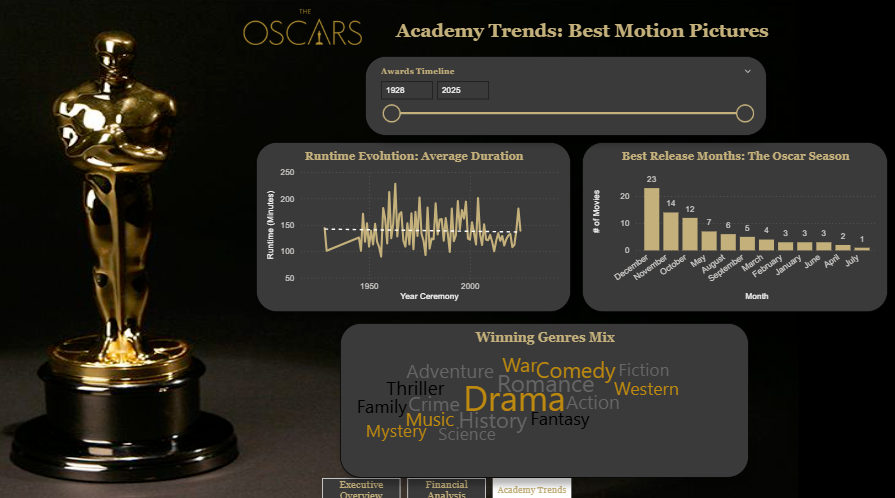

Layout of this report page (visuals, bound fields, positions):
{"tool":"powerbi","page":{"name":"Academy Trends","canvas":[1280,720],"ordinal":2},"visuals":[{"type":"image","box":[344.4,0,178.9,82.2],"z":1000},{"type":"pageNavigator","box":[461.1,685.6,356.7,34.4],"z":2000},{"type":"WordCloud1447959067750","title":"Winning Genres Mix","fields":{"Category":["public vw_oscarportfolio.genres"],"Values":["CountNonNull(public vw_oscarportfolio.tmdb_id)"]},"box":[487.1,464.3,584.3,221.4],"z":3000},{"type":"lineChart","title":"Runtime Evolution: Average Duration","fields":{"Category":["public vw_oscarportfolio.year_ceremony"],"Y":["Avg(public vw_oscarportfolio.runtime)"]},"box":[367.1,205.7,450,242.9],"z":4000},{"type":"clusteredColumnChart","title":"Best Release Months: The Oscar Season","fields":{"Category":["public vw_oscarportfolio.release_month_name"],"Y":["CountNonNull(public vw_oscarportfolio.tmdb_id)"]},"box":[832.9,205.7,437.1,242.9],"z":5000},{"type":"slicer","fields":{"Values":["public vw_oscarportfolio.year_ceremony"]},"box":[523.3,82.2,574.4,114.4],"z":6000},{"type":"textbox","box":[542.2,26.7,581.1,55.6],"z":7000}]}

Visuals, with their boxes in screenshot pixels (x1, y1, x2, y2), scaled from the page's 1280x720 canvas onto the 895x498 screenshot:
image: <bbox>241, 0, 366, 57</bbox>
pageNavigator: <bbox>322, 474, 572, 497</bbox>
"Winning Genres Mix" WordCloud1447959067750: <bbox>341, 321, 749, 474</bbox>
"Runtime Evolution: Average Duration" lineChart: <bbox>257, 142, 571, 310</bbox>
"Best Release Months: The Oscar Season" clusteredColumnChart: <bbox>582, 142, 888, 310</bbox>
slicer - public vw_oscarportfolio.year_ceremony: <bbox>366, 57, 768, 136</bbox>
textbox: <bbox>379, 18, 785, 57</bbox>
